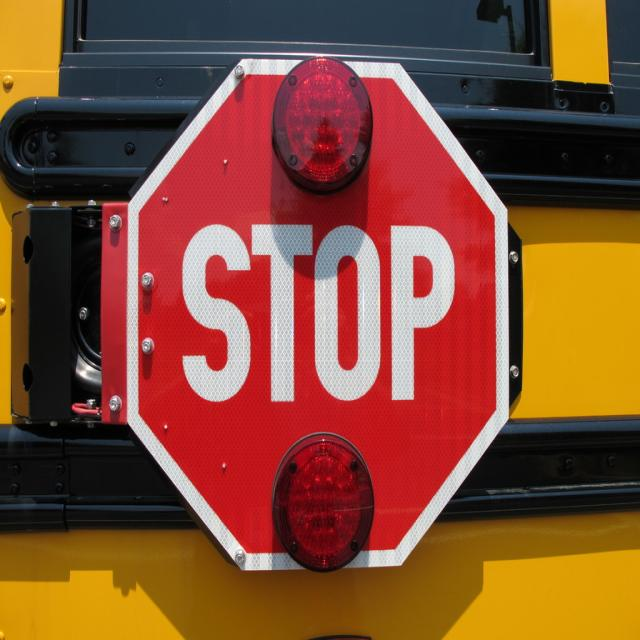Stop-sign: (126, 56, 508, 571)
